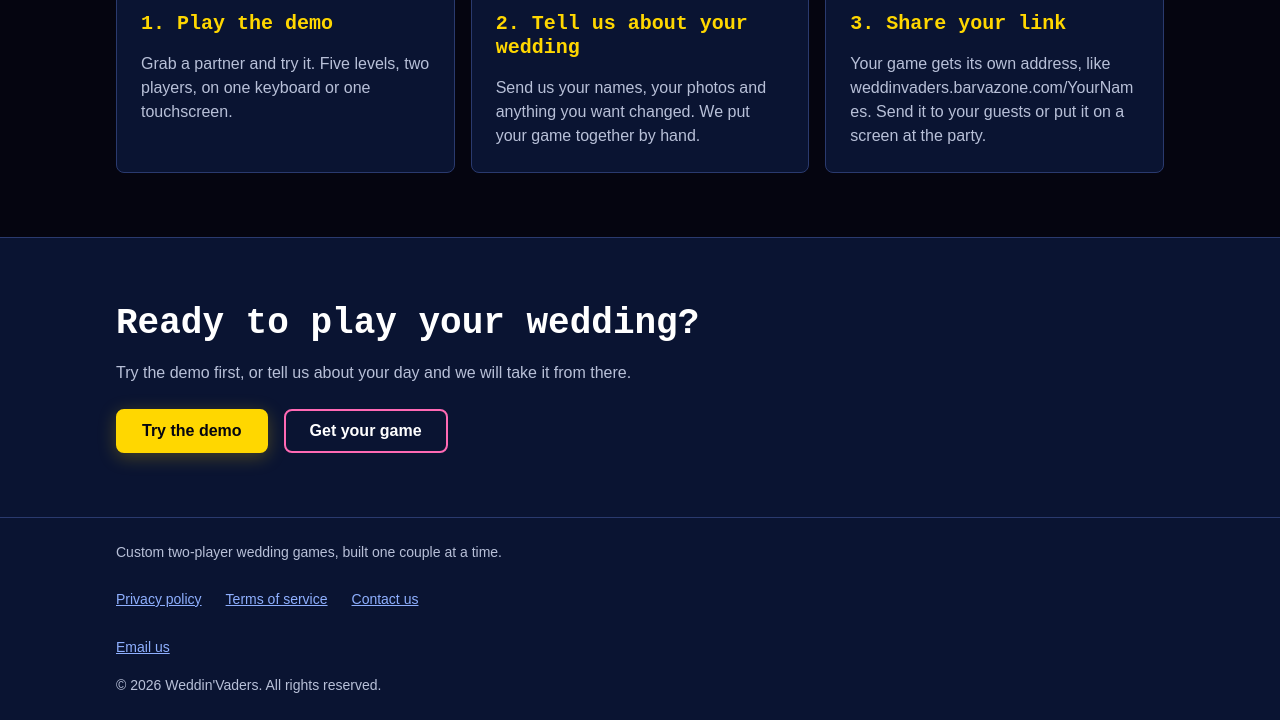
App shell and surface (component) › test_footer_link_navigates
The image size is (1280, 720).
(page scrolled)
Click the link "Privacy policy".
click(159, 599)  # box [116,591,202,607]
(page scrolled)
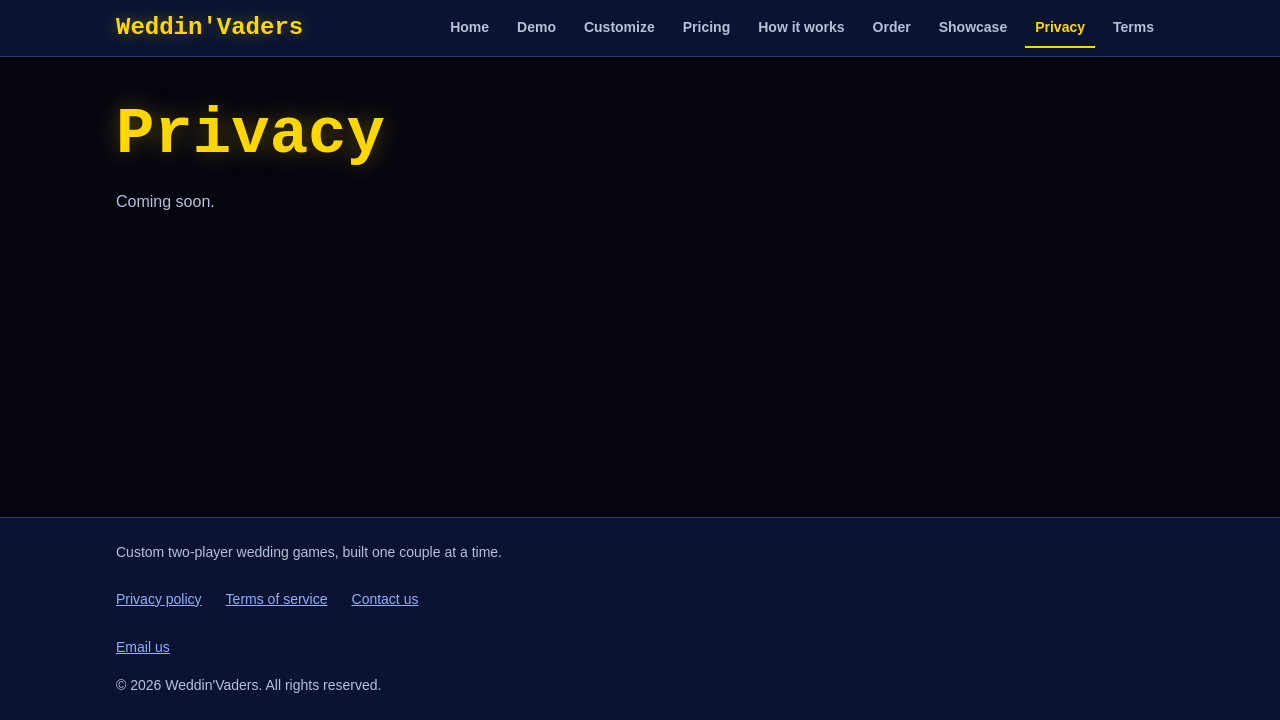
Expected: the heading reads "Privacy", [116,99,385,171]
